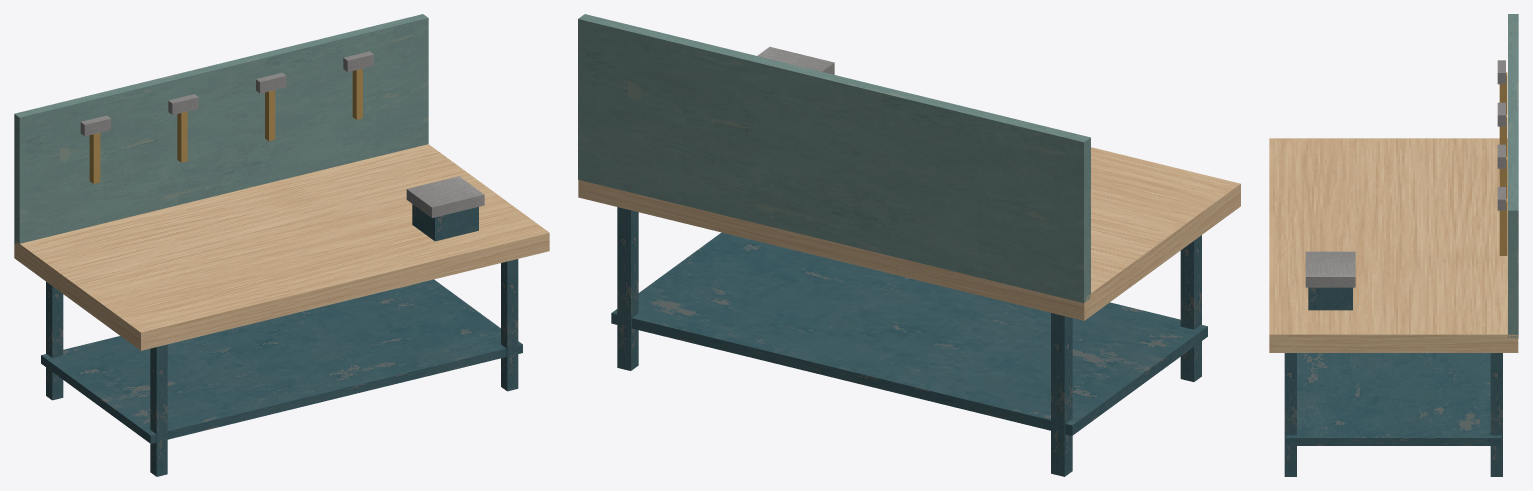
The model's file is city_workbench.glb.
3 renders of one model, left to right at view 1: azimuth 30°, elevation 25°; view 2: azimuth 150°, elevation 25°; view 3: azimuth 270°, elevation 25°, orthographic. The views are drawn at different scales.
Parts seen in each view (by area): view 1: root; view 2: root; view 3: root.
Part boxes in pixels (<box>): root: <box>14,14,549,476</box>; root: <box>578,14,1240,476</box>; root: <box>1269,14,1518,476</box>.
Size of the model in its own units: 2.8 by 1.85 by 1.5.
Materials: 1 (1 with a texture image).
